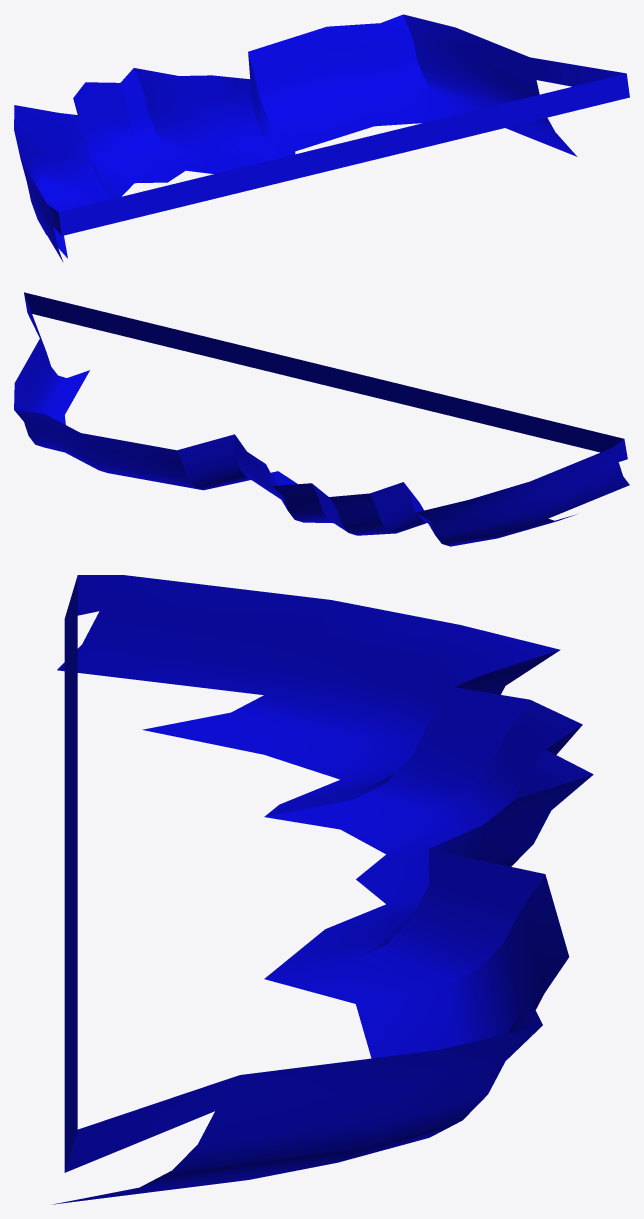
Rendered from astbottom.glb.
The picture shows the model from 3 angles, top to bottom: view 1: azimuth 30°, elevation 25°; view 2: azimuth 150°, elevation 25°; view 3: azimuth 270°, elevation 25°; orthographic projection. The views are drawn at different scales.
Parts seen in each view (by area): view 1: astbottom; view 2: astbottom; view 3: astbottom.
Part boxes in pixels (x1,y1,x2,y2): astbottom: [14, 14, 629, 262]; astbottom: [14, 292, 629, 546]; astbottom: [52, 575, 593, 1204].
Size of the model in its own units: 68.7 by 7.5 by 28.47.
